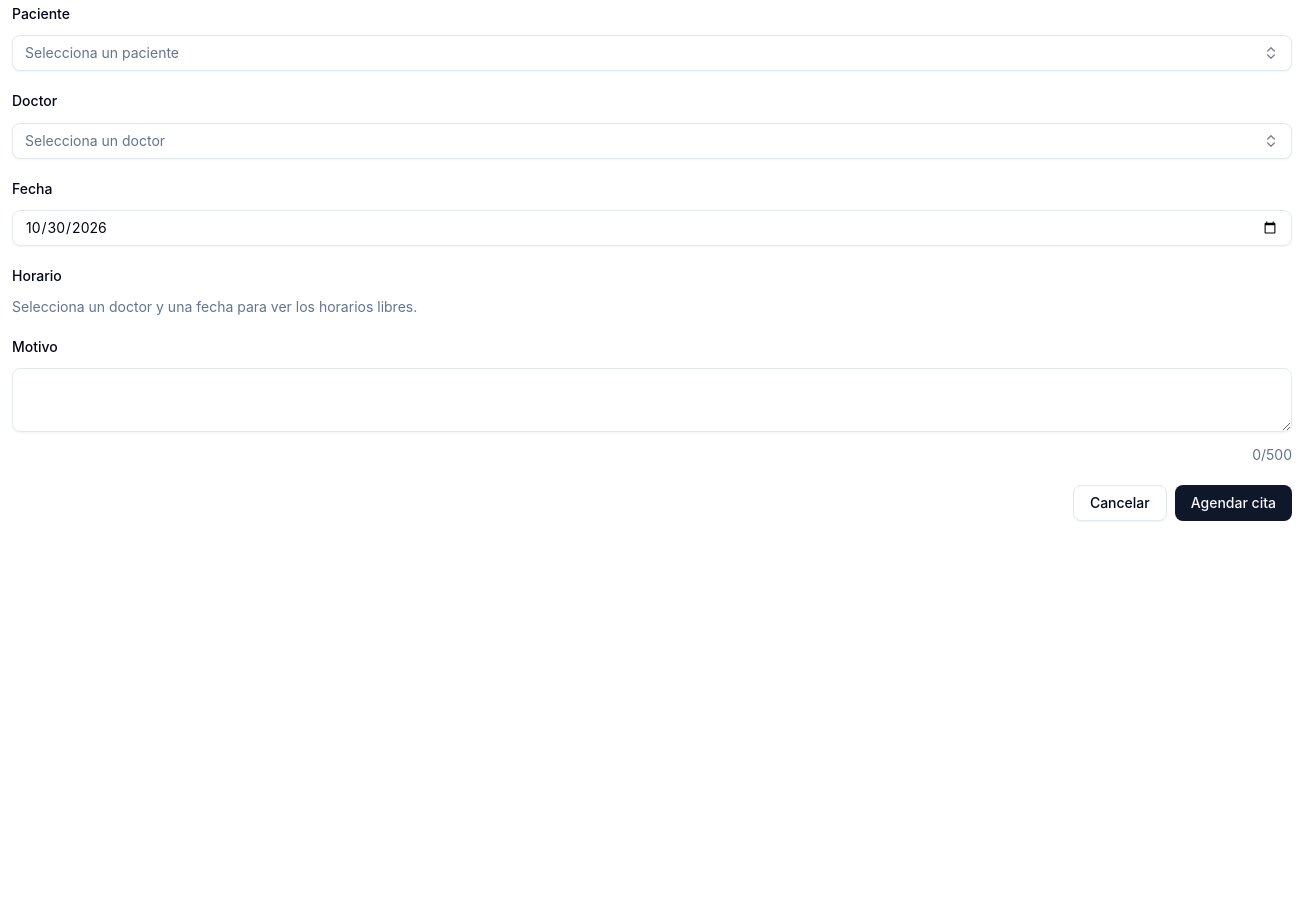
Scenario: AppointmentForm › shows the messages of the empty form without submitting
This screenshot has width=1304, height=900.
Click the button "Agendar cita": {"x": 1233, "y": 503} [1175,485,1292,521]
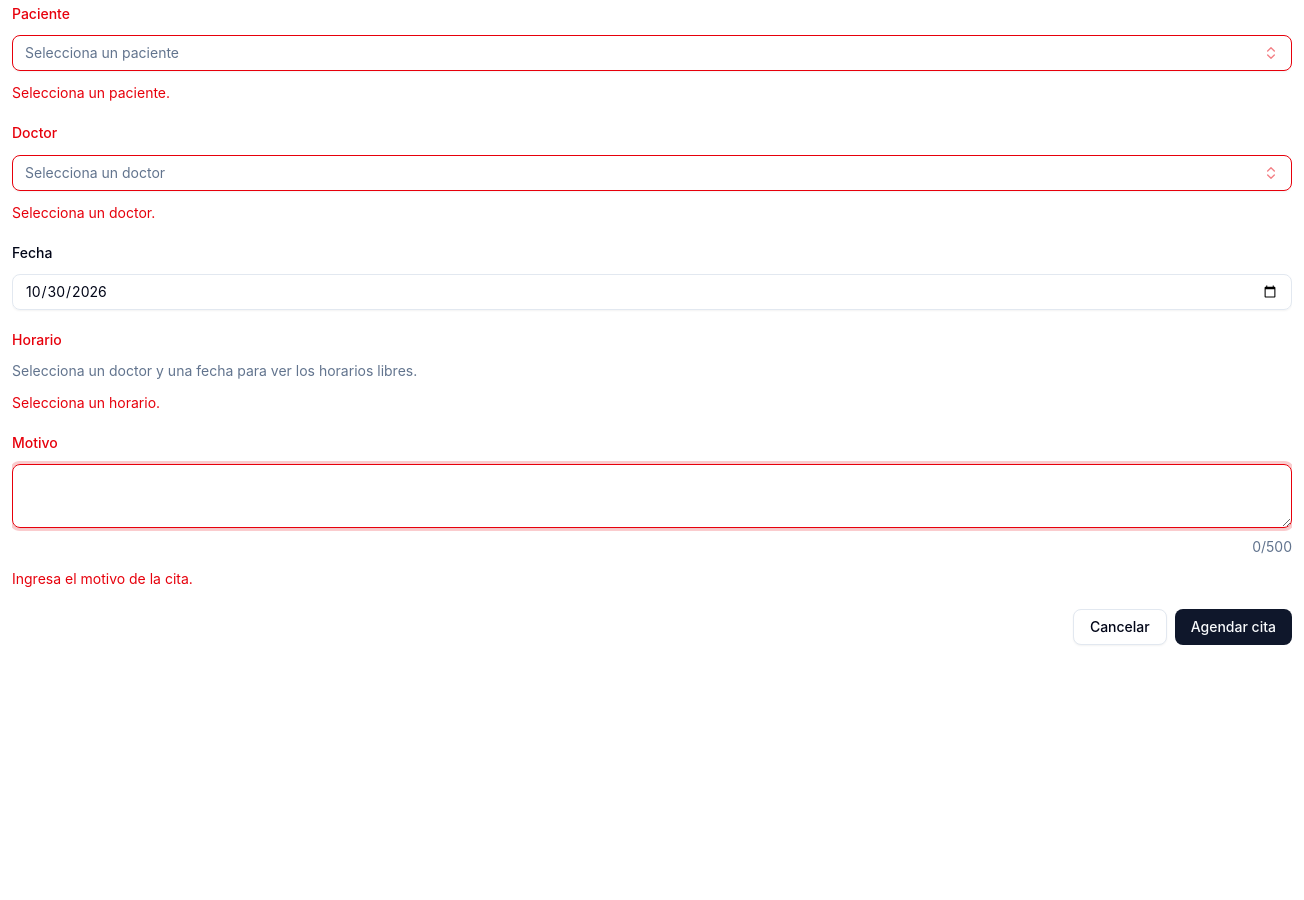
Check: the text "Selecciona un paciente." is shown, box [12,84,170,101]
Check: the text "Selecciona un doctor." is shown, box [12,204,155,220]
Check: the text "Selecciona un horario." is shown, box [12,394,160,411]
